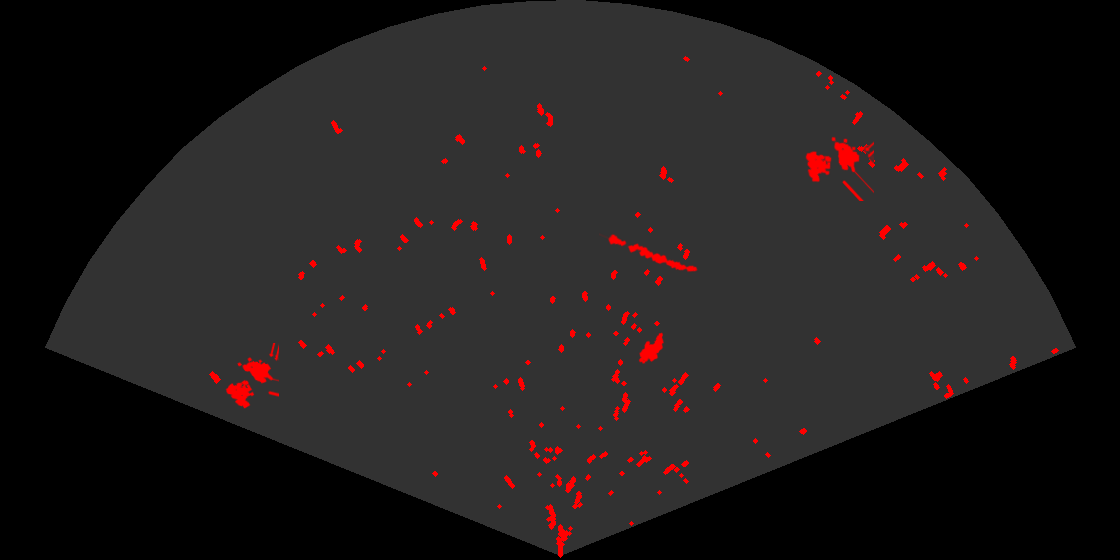AUV: (637, 331, 665, 365)
cage: (804, 135, 874, 201), (224, 343, 279, 410)
chain: (599, 232, 699, 274)
